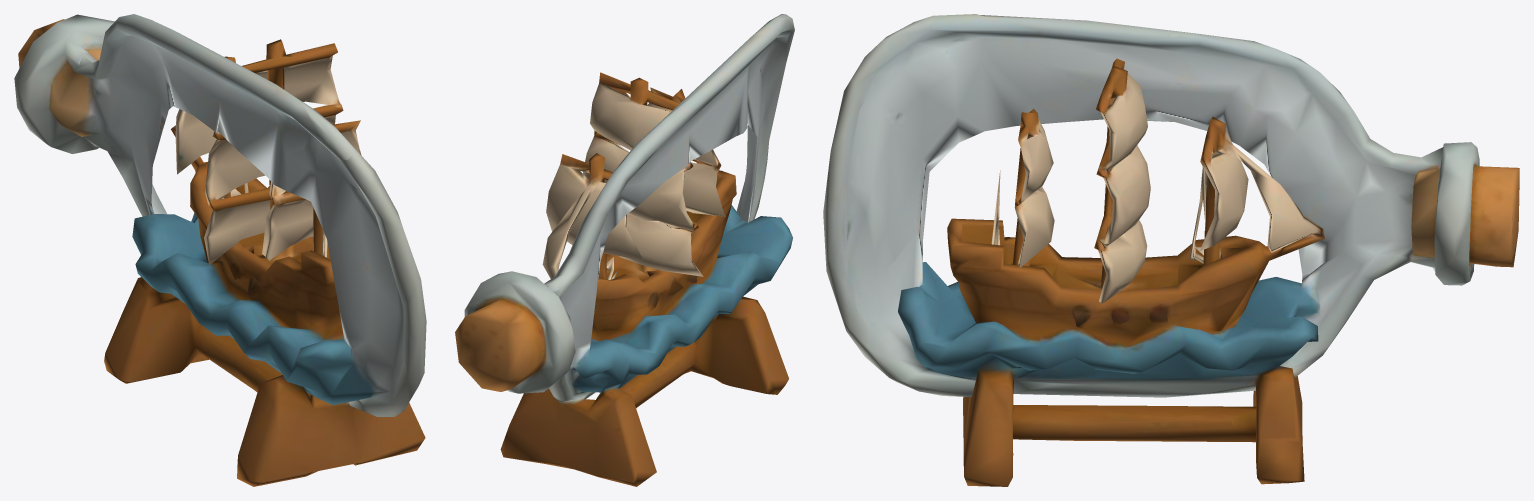
Rendered from f-shipbottle.glb.
The picture shows the model from 3 angles, left to right: view 1: azimuth 30°, elevation 25°; view 2: azimuth 150°, elevation 25°; view 3: azimuth 270°, elevation 25°; orthographic projection. The views are drawn at different scales.
Parts seen in each view (by area): view 1: tripo_node_47b04606-2dc0-46c6-8b34-425277197150; view 2: tripo_node_47b04606-2dc0-46c6-8b34-425277197150; view 3: tripo_node_47b04606-2dc0-46c6-8b34-425277197150.
Part boxes in pixels (left/top/right/bottom): tripo_node_47b04606-2dc0-46c6-8b34-425277197150: left=14, top=14, right=426, bottom=486; tripo_node_47b04606-2dc0-46c6-8b34-425277197150: left=455, top=14, right=794, bottom=486; tripo_node_47b04606-2dc0-46c6-8b34-425277197150: left=823, top=14, right=1519, bottom=486.
Size of the model in its own units: 0.2968 by 0.6416 by 1.
Materials: 1 (1 with a texture image).
